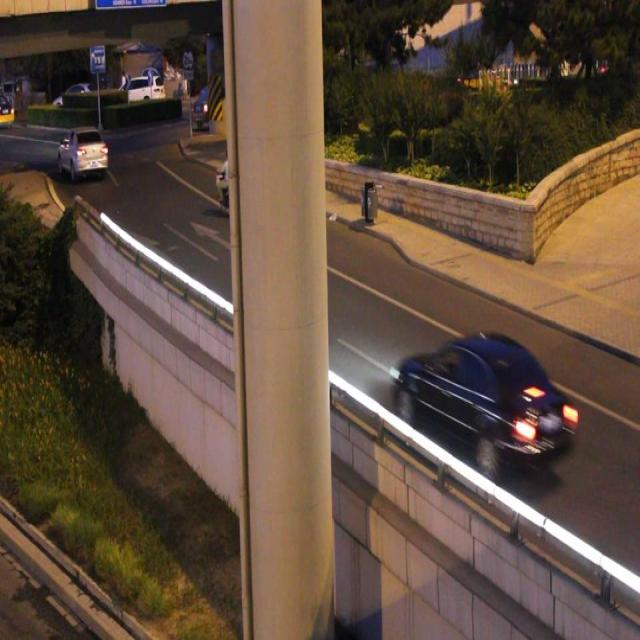car: (394, 336, 573, 476), (59, 132, 108, 174)
